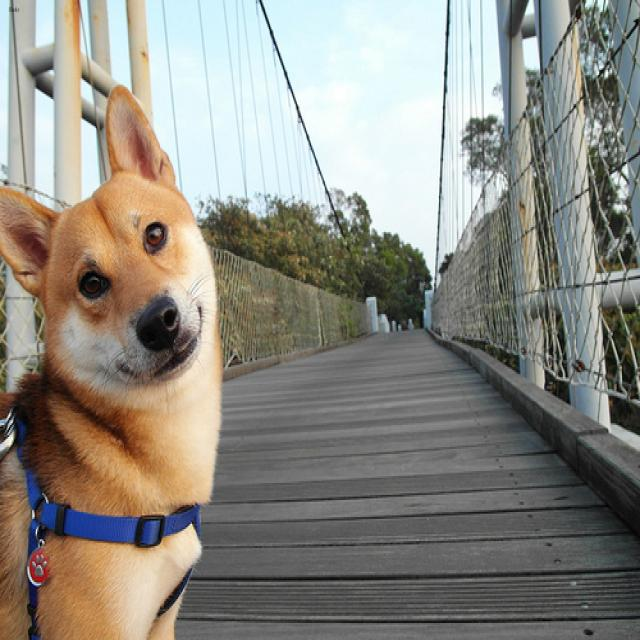dog-shiba_inu: (1, 77, 232, 637)
